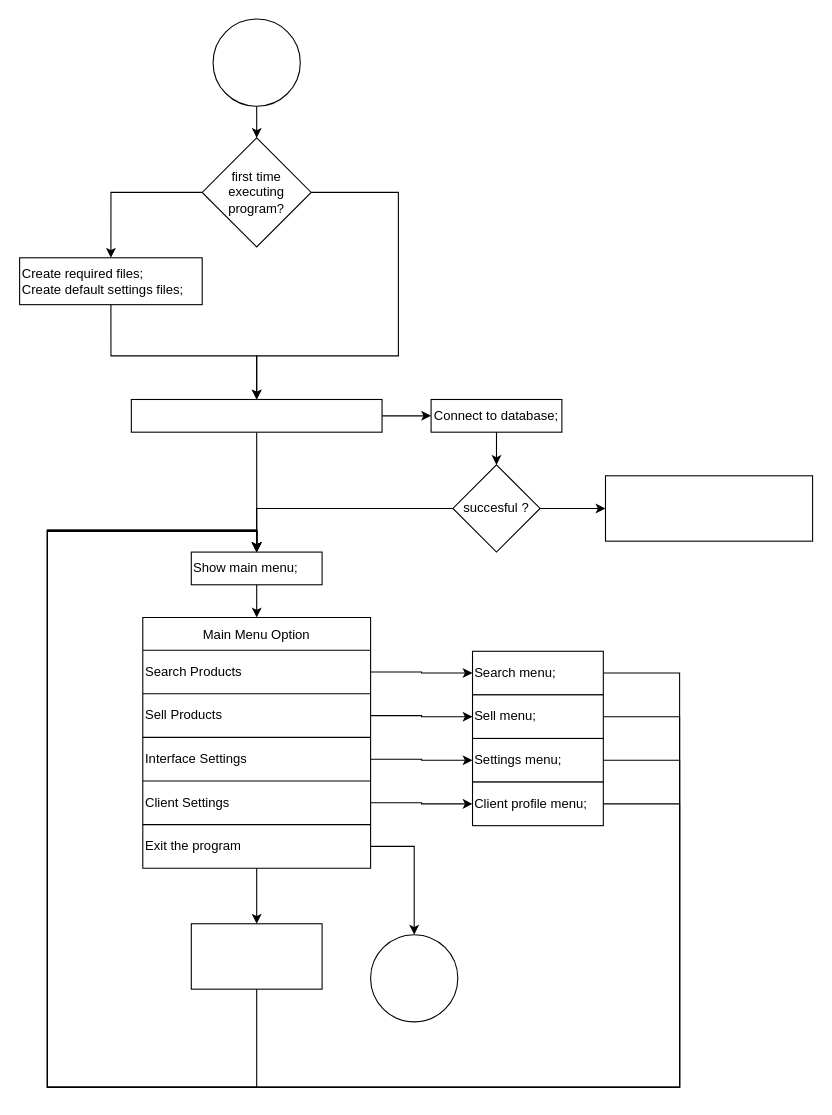
Image size: 832x1115. Some labels were removed from this diagram. Each missing label, with the centre of its shape:
"Ask user for SQL server login information;" goes at pixel 256 415.
"END" goes at pixel 414 978.
"Error scren: invalid option" goes at pixel 256 956.
"START" goes at pixel 256 62.
"Trow an error and ask the user to try again; Close the program;" goes at pixel 708 508.
